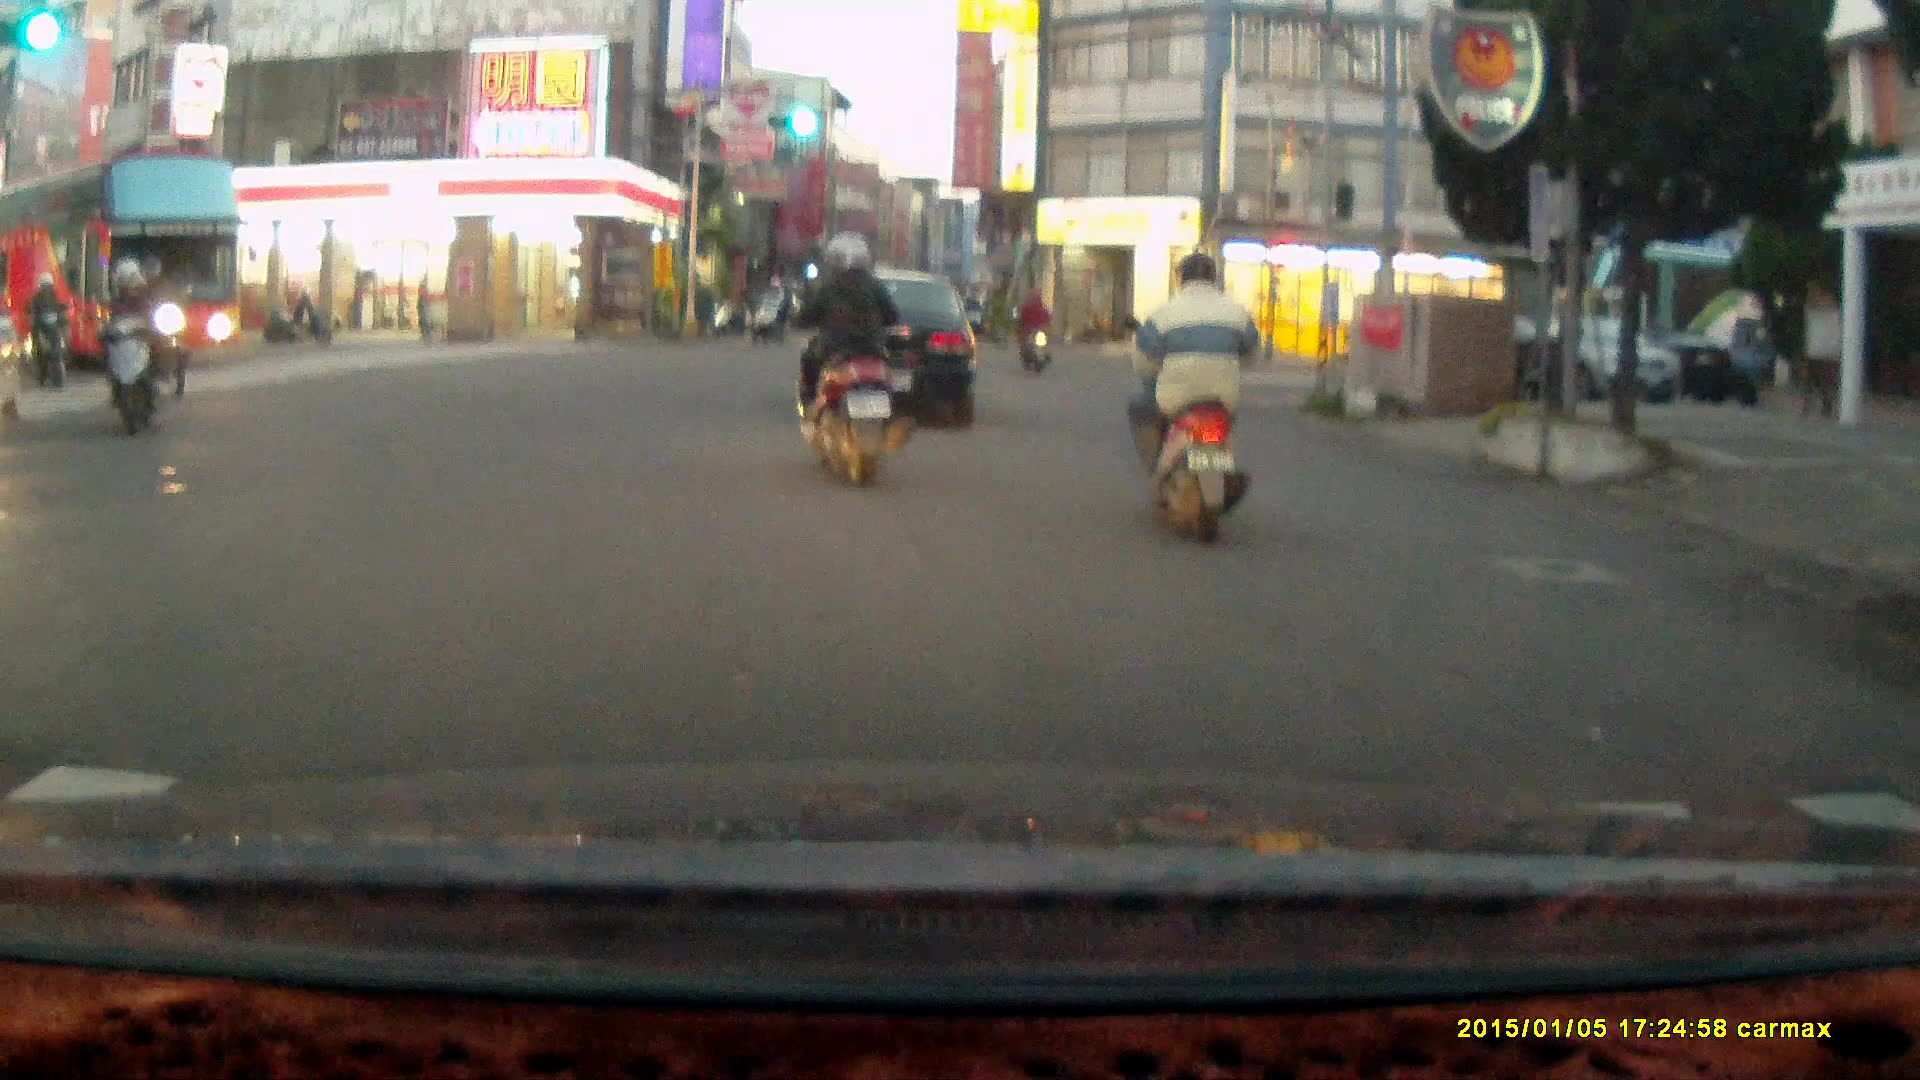rider: (1122, 252, 1254, 550), (784, 227, 918, 492), (92, 253, 171, 437), (118, 253, 183, 406), (21, 270, 70, 391), (1010, 291, 1051, 374), (751, 275, 792, 341)
vehicle: (1, 154, 239, 377), (1475, 311, 1687, 407)
